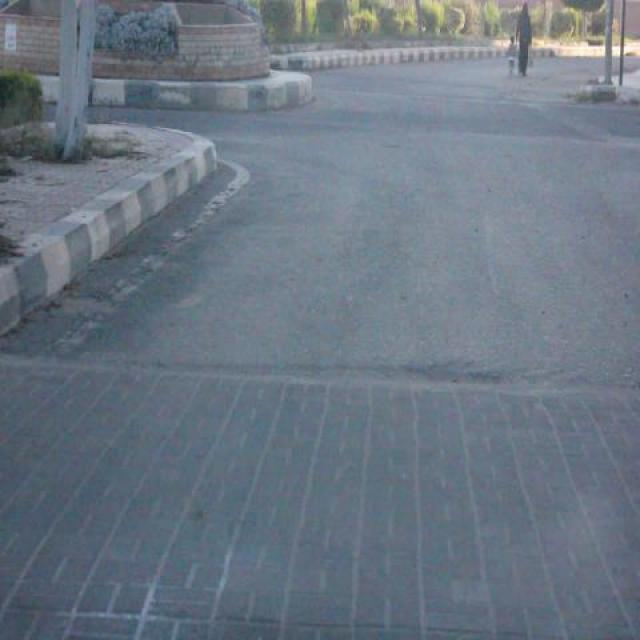Unmarked Bump: (0, 350, 639, 640)
